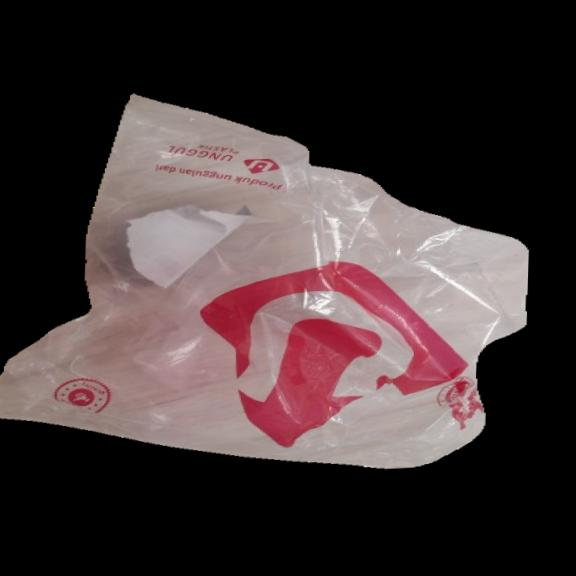Plastik: (0, 64, 555, 496)
